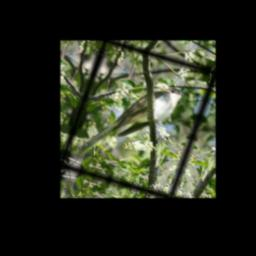Cuckoo: (73, 66, 191, 179)
